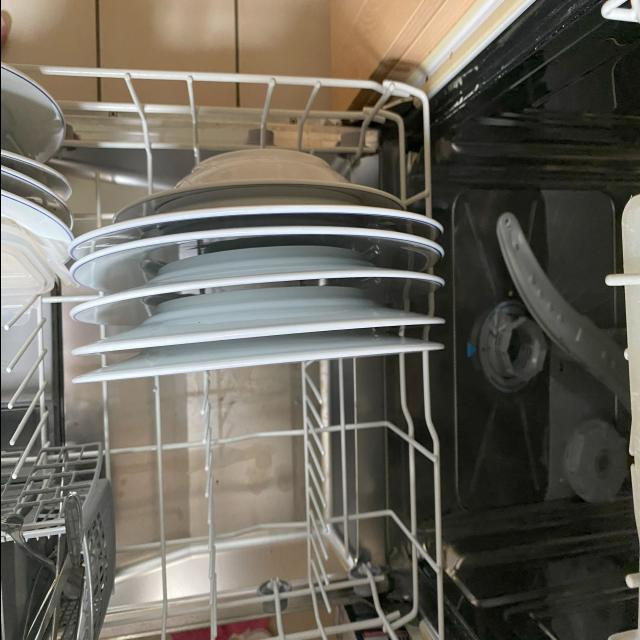empty_slot: (129, 390, 420, 628)
